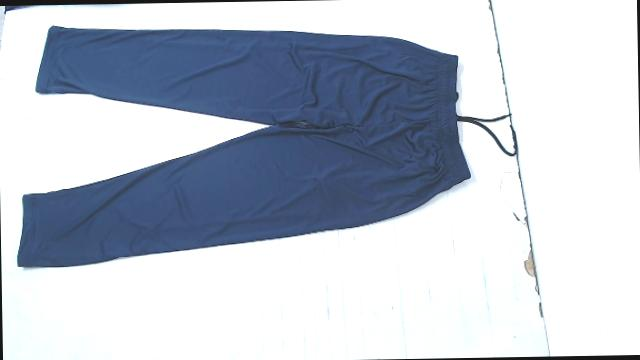new-garment: (17, 26, 470, 266)
